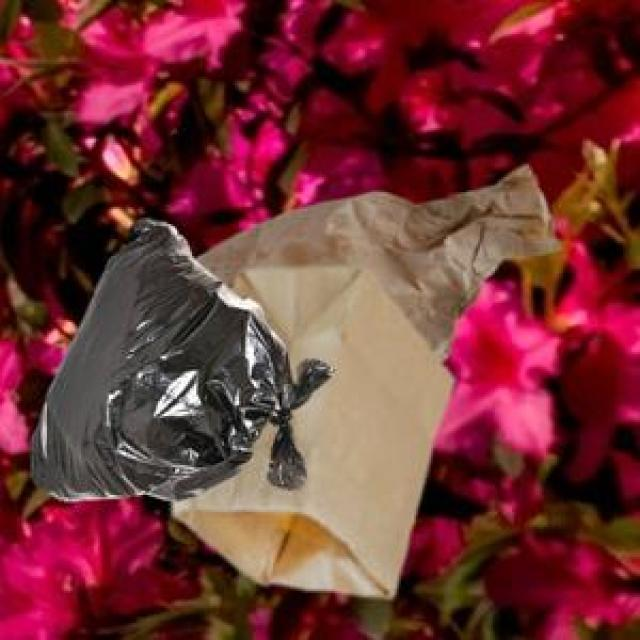miscellaneous trash: (26, 213, 329, 497)
paper: (169, 265, 450, 593), (192, 162, 557, 358)
